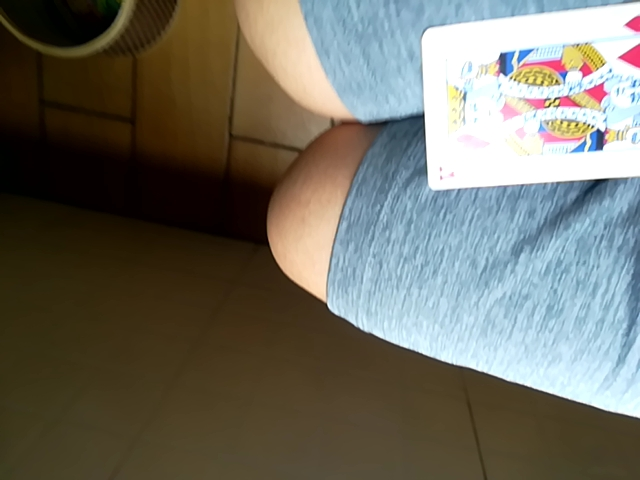hx k: (414, 1, 637, 193)
